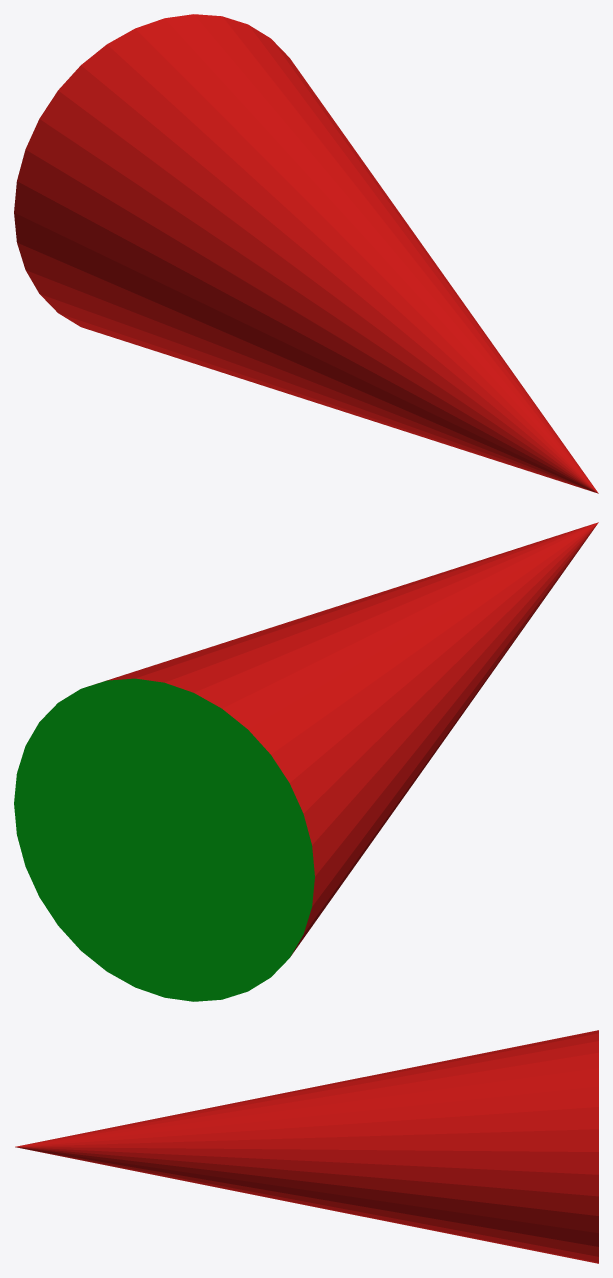
Rendered from arrow22.fbx.
3 views of the same model, one above another, from view 1: azimuth 30°, elevation 25°; view 2: azimuth 150°, elevation 25°; view 3: azimuth 270°, elevation 25° (orthographic). The views are drawn at different scales.
Parts seen in each view (by area): view 1: Cone; view 2: Cone; view 3: Cone.
Boxes of the visible parts, x1,y1,x2,y2 form: Cone: [14, 14, 598, 493]; Cone: [14, 522, 598, 1001]; Cone: [15, 1030, 598, 1263].
Size of the model in its own units: 200 by 200 by 500.
